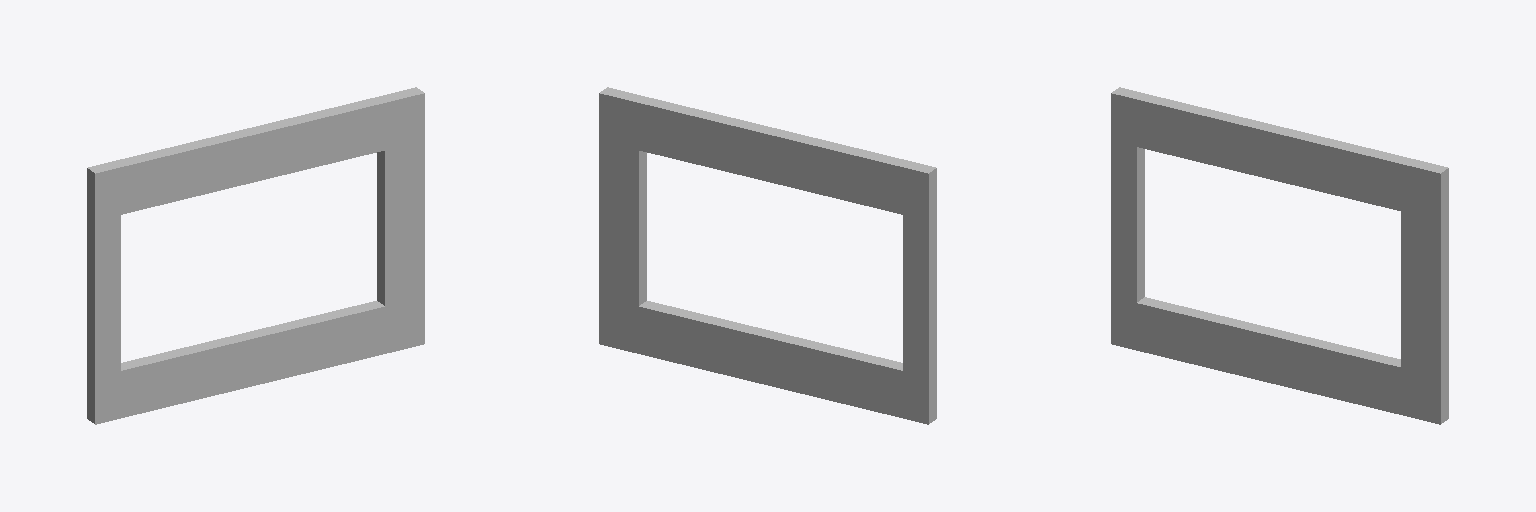
Rendered from Microwave_New_B.obj.
3 renders of one model, left to right at view 1: azimuth 30°, elevation 25°; view 2: azimuth 150°, elevation 25°; view 3: azimuth 330°, elevation 25°, orthographic.
Visible parts, largest first — view 1: Microwave_New_B; view 2: Microwave_New_B; view 3: Microwave_New_B.
Boxes of the visible parts, x1,y1,x2,y2 form: Microwave_New_B: [87, 87, 424, 424]; Microwave_New_B: [599, 87, 936, 424]; Microwave_New_B: [1111, 87, 1448, 424].
Bounding box in the file's own units: 0.6202 × 0.4517 × 0.0267.